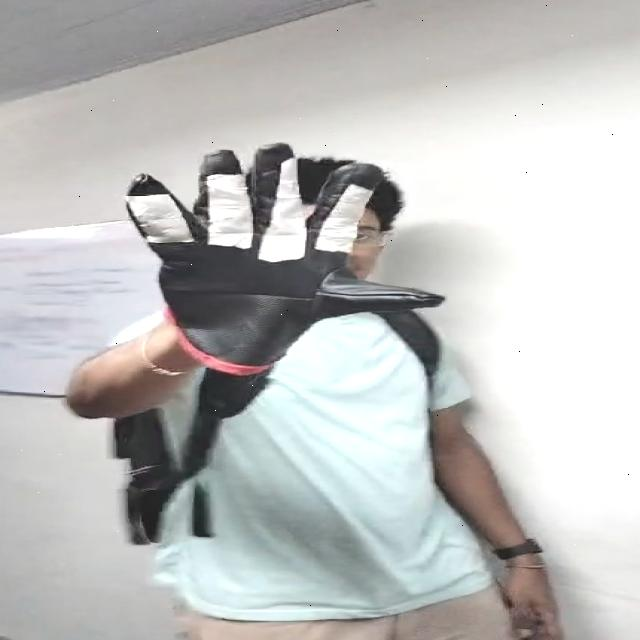Gloves: (121, 142, 445, 360)
